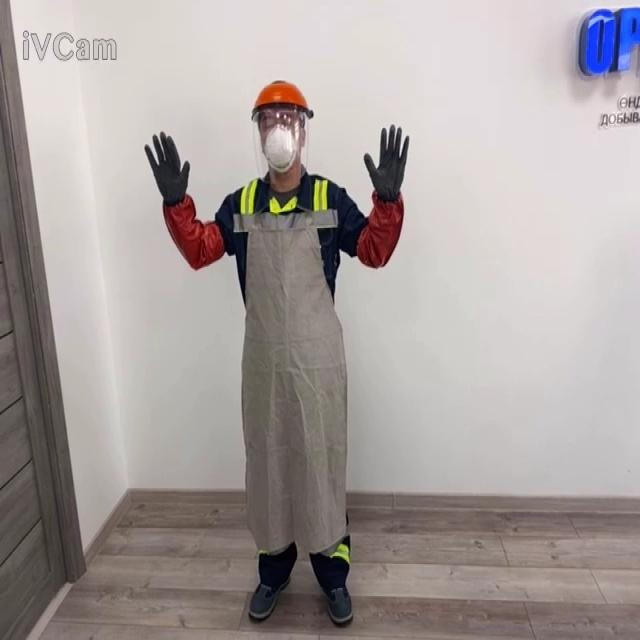Gloves: (363, 122, 409, 202), (144, 131, 190, 205)
Mask: (260, 120, 299, 173)
Protective apron: (233, 203, 349, 557)
Safety Shoes: (247, 574, 290, 618), (325, 584, 353, 624)
Sleeve: (161, 192, 225, 269), (356, 189, 404, 268)
